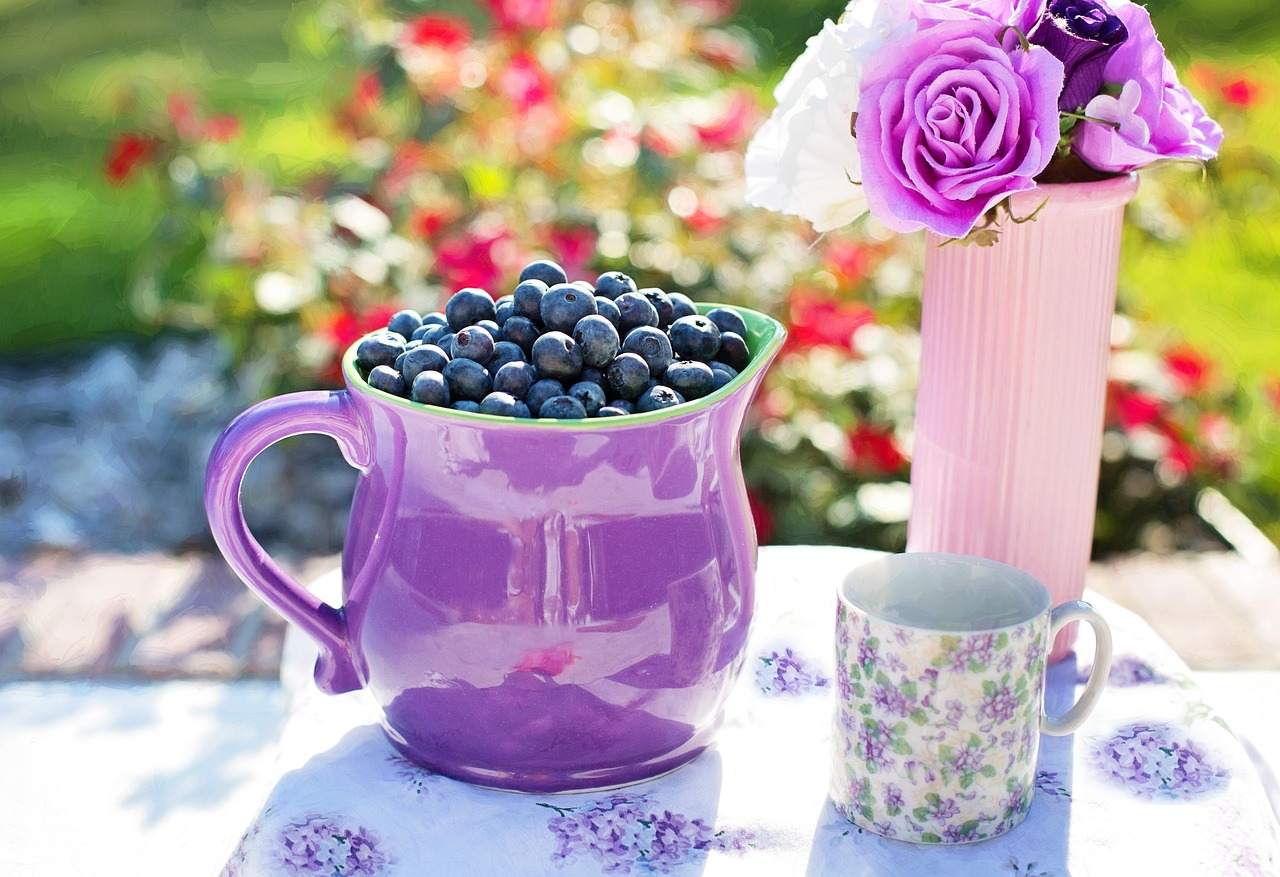mug: (195, 276, 807, 692)
